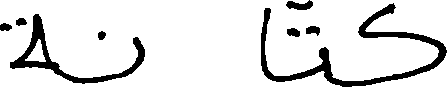ا: (260, 5, 271, 80)
ة: (0, 11, 51, 70)
ث: (285, 0, 330, 84)
ك: (356, 1, 444, 85)
ن: (96, 28, 145, 83)
